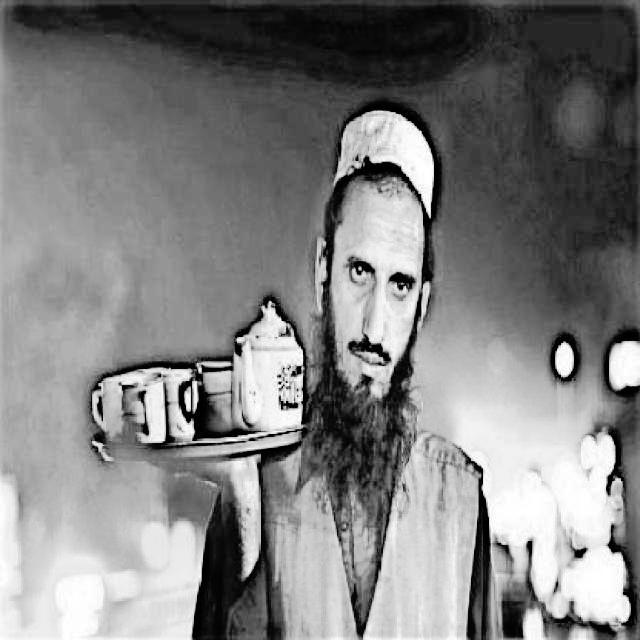Person: (193, 101, 504, 640)
